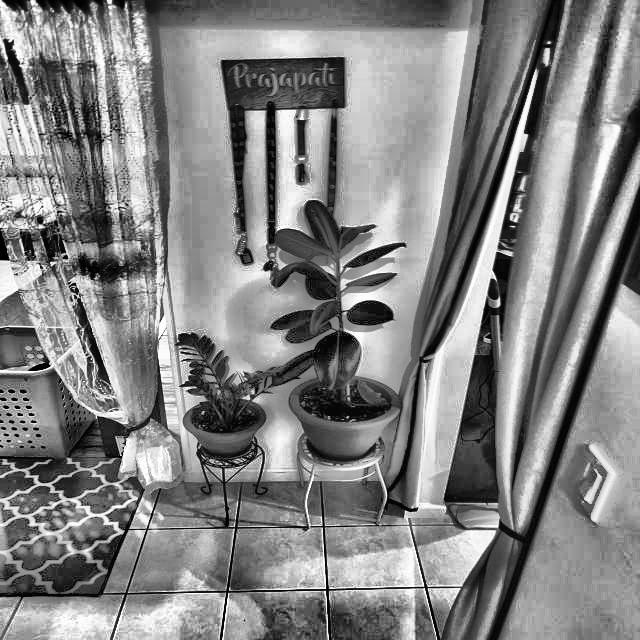plants: (299, 228, 387, 413), (167, 311, 269, 425)
